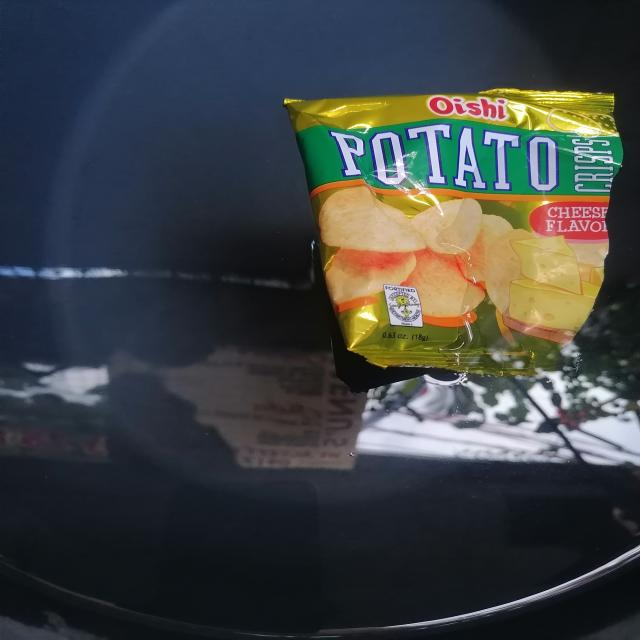Plastic Wrapper: (284, 89, 623, 376)
